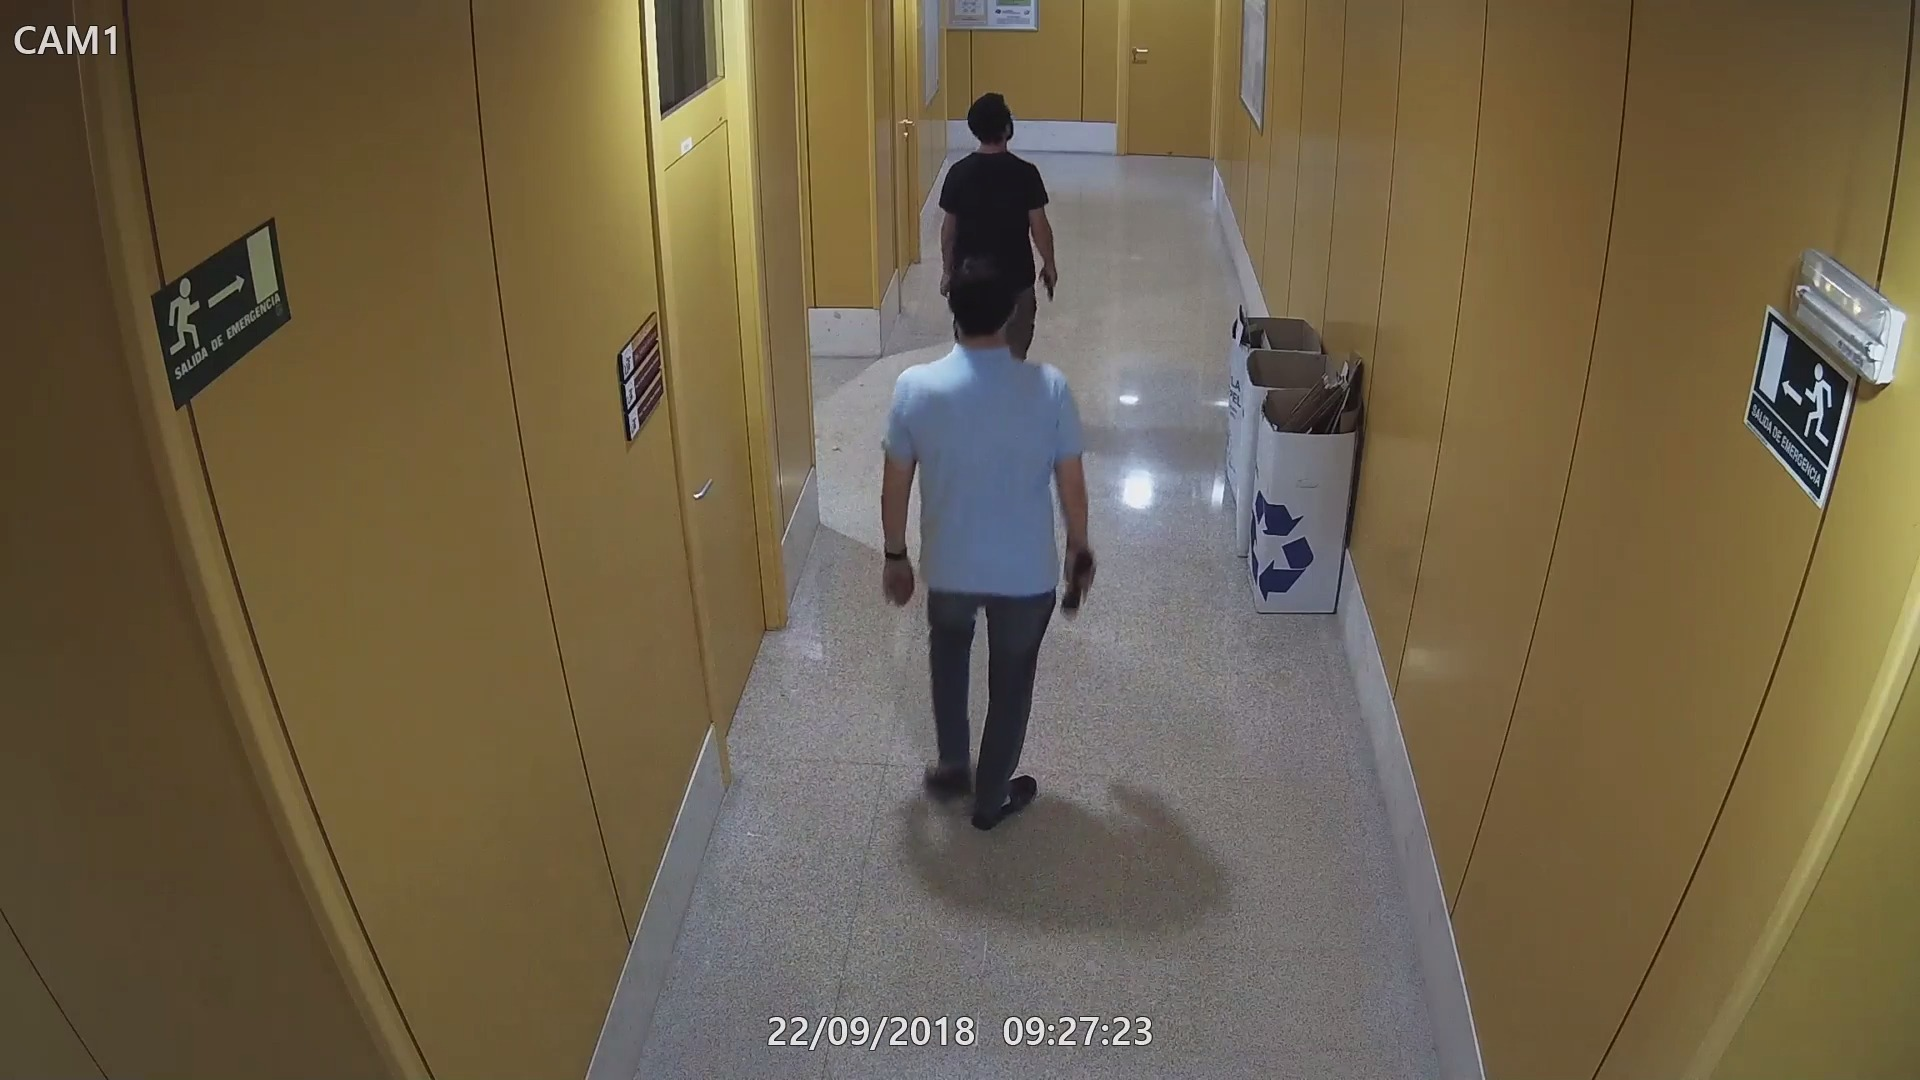Handgun: (1036, 261, 1063, 301)
